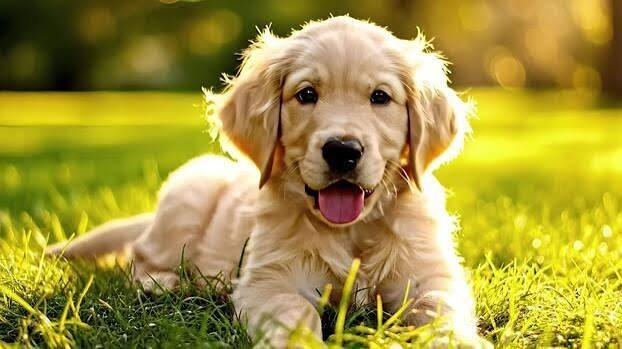puppy-dog: (41, 13, 490, 349)
